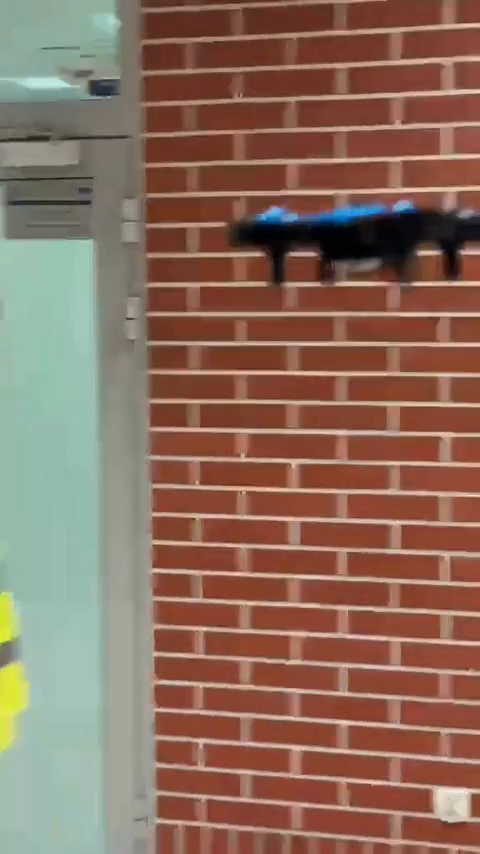drone: (225, 193, 480, 286)
